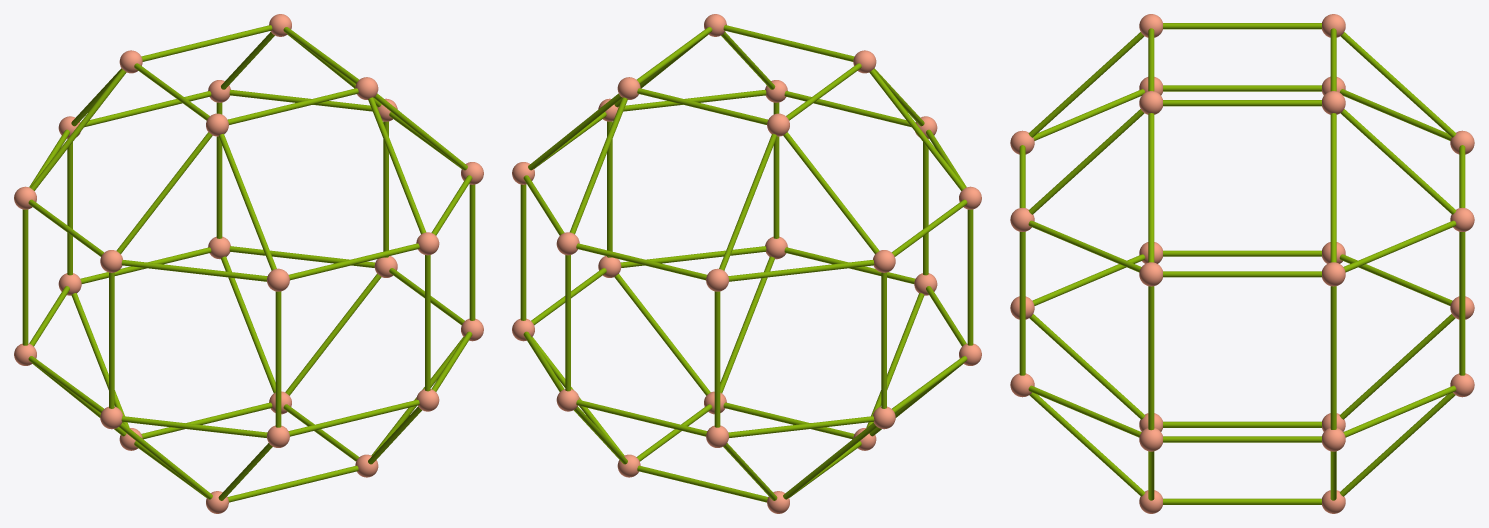
The model's file is rhombicuboctahedron.glb.
3 views of the same model, side by side, from view 1: azimuth 30°, elevation 25°; view 2: azimuth 150°, elevation 25°; view 3: azimuth 270°, elevation 25° (orthographic). The views are drawn at different scales.
Bounding box in the file's own units: 7.64 × 7.64 × 7.64.
